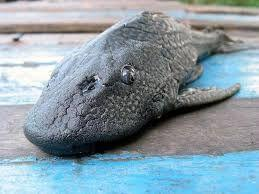Janitor Fish: (23, 7, 240, 155)
